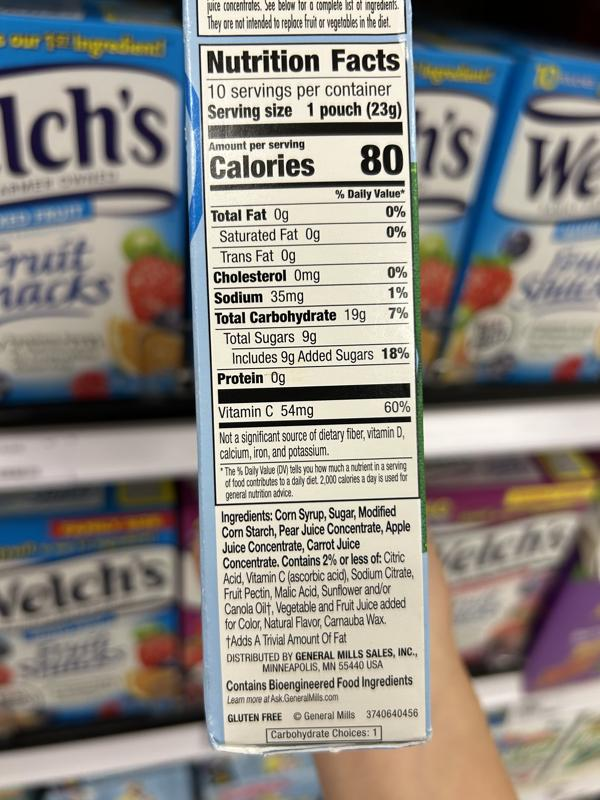ingredients: (219, 504, 417, 648)
